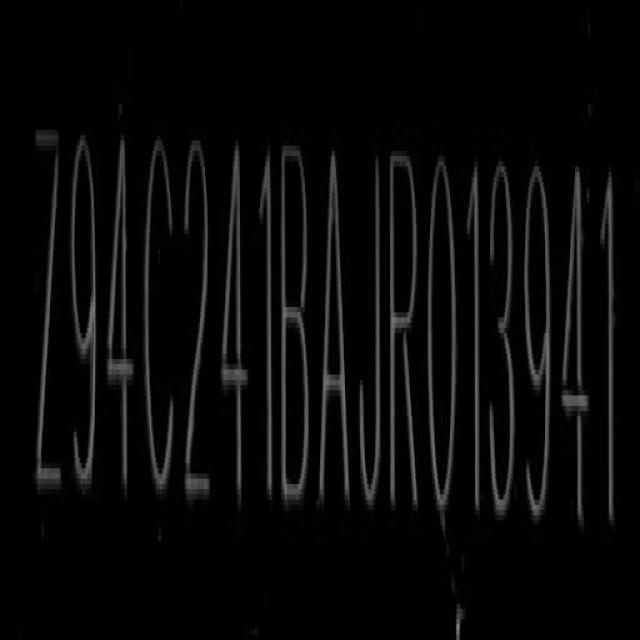0: (427, 147, 460, 526)
1: (602, 172, 622, 540), (258, 139, 275, 513), (465, 152, 481, 528)
2: (183, 130, 215, 520)
3: (489, 160, 520, 529)
4: (559, 161, 593, 536), (218, 137, 250, 519), (108, 134, 140, 514)
9: (68, 127, 101, 511), (524, 160, 555, 536)
A: (319, 139, 351, 517)
B: (281, 134, 314, 516)
C: (143, 129, 180, 515)
J: (358, 143, 386, 516)
R: (389, 144, 424, 519)
Z: (34, 120, 66, 516)
